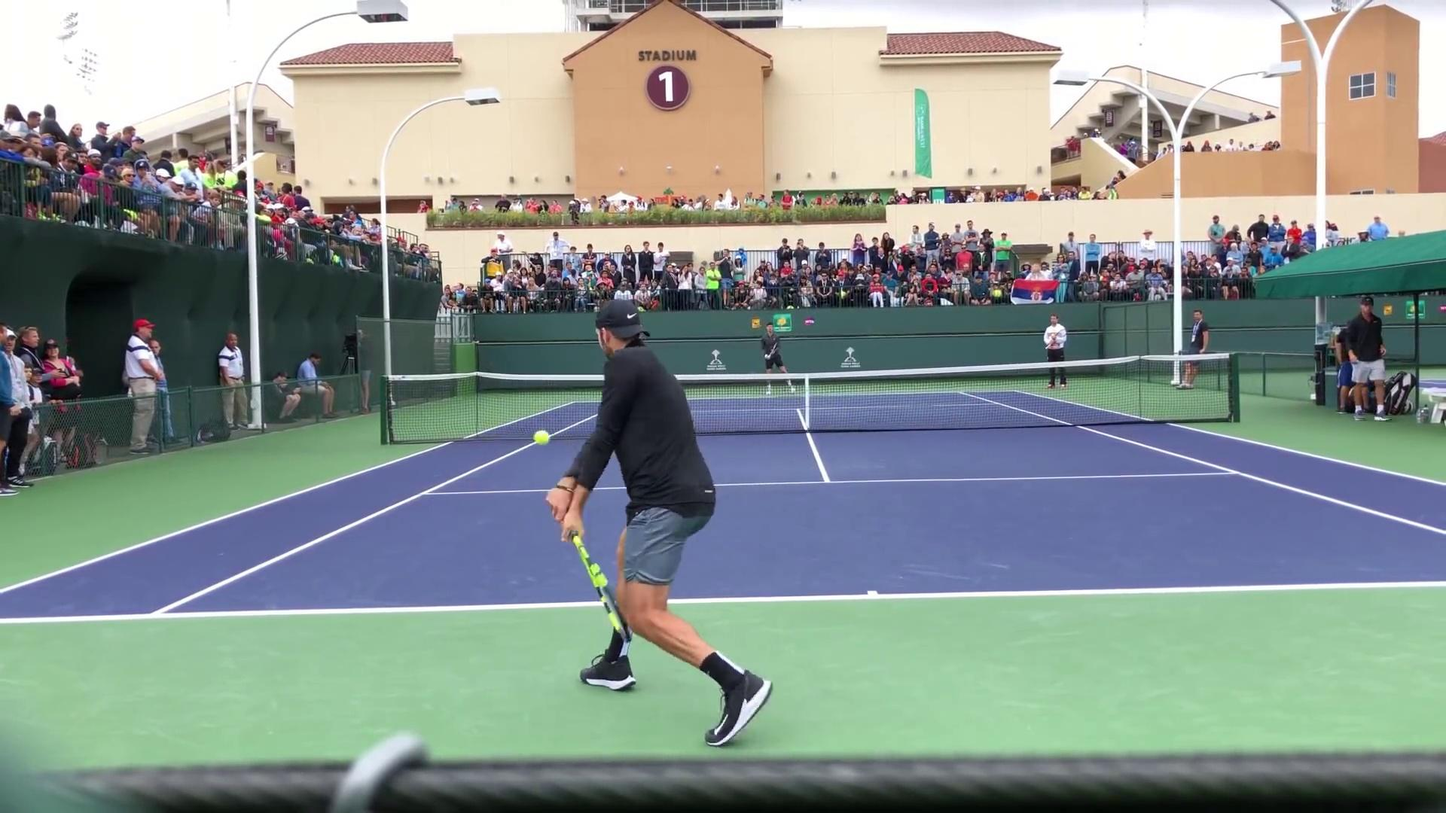ball: (526, 428, 552, 448), (805, 414, 810, 425)
